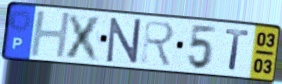5: (186, 23, 218, 71)
H: (28, 10, 73, 59)
N: (105, 17, 143, 65)
R: (139, 18, 177, 69)
T: (224, 28, 251, 73)
X: (62, 12, 105, 63)
